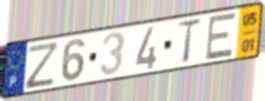3: (100, 29, 128, 78)
4: (134, 24, 159, 71)
6: (59, 36, 87, 84)
E: (203, 11, 238, 63)
T: (176, 17, 203, 66)
Z: (24, 39, 62, 91)
